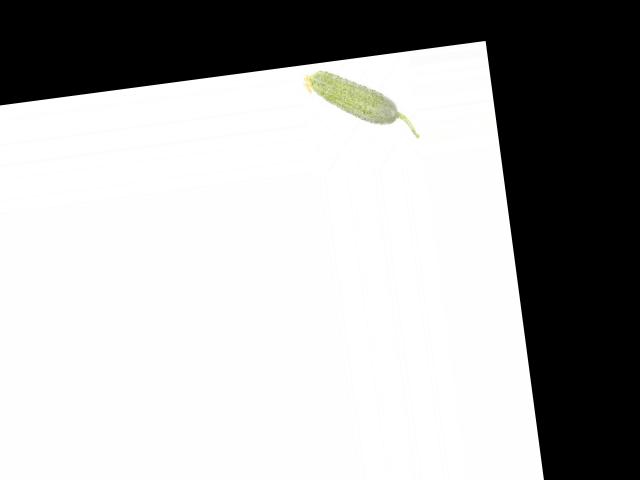cucumber: (300, 58, 419, 152)
